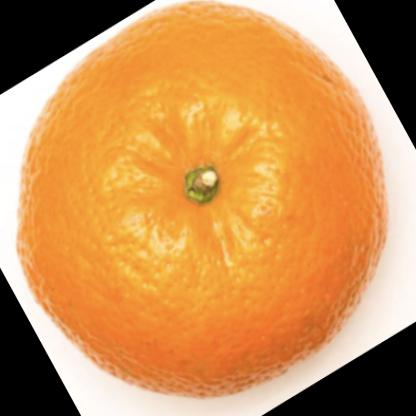orange: (23, 2, 390, 392)
